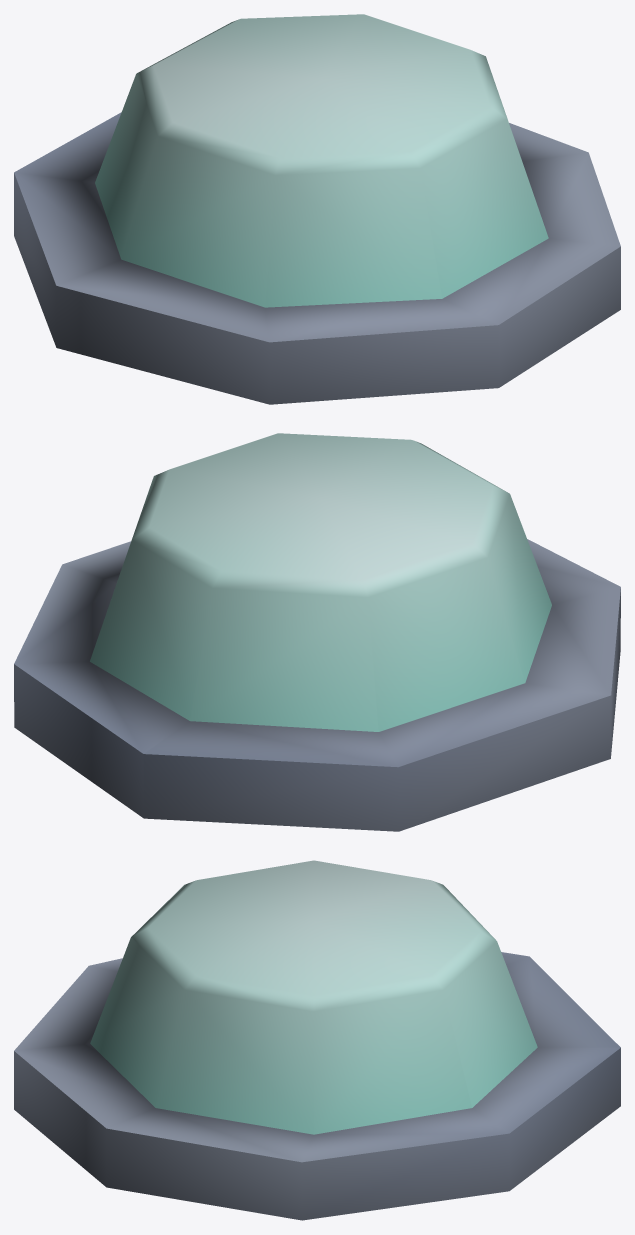
Rendered from prop-light.glb.
3 renders of one model, top to bottom at view 1: azimuth 30°, elevation 25°; view 2: azimuth 150°, elevation 25°; view 3: azimuth 270°, elevation 25°, orthographic. The views are drawn at different scales.
Visible parts, largest first — view 1: prop-light; view 2: prop-light; view 3: prop-light.
Part boxes in pixels (bbox=[...]): prop-light: bbox=[14, 14, 620, 404]; prop-light: bbox=[14, 433, 620, 831]; prop-light: bbox=[14, 860, 620, 1220].
Bounding box in the file's own units: 1.3 × 0.4525 × 1.37.
